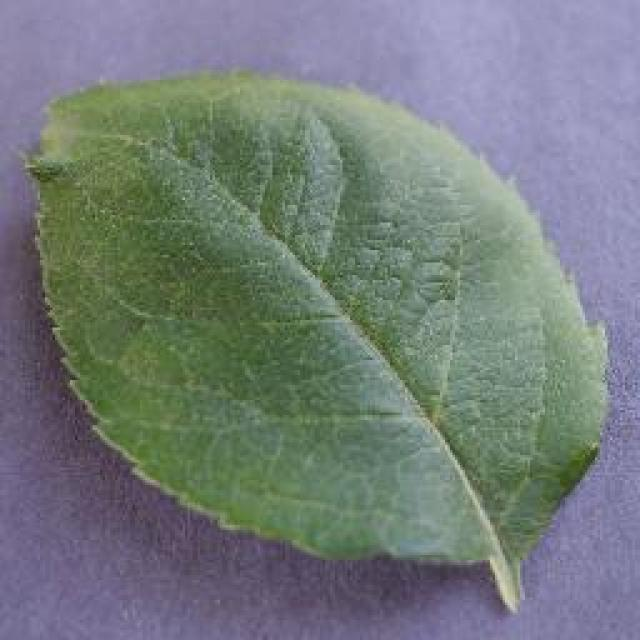apple healthy: (18, 65, 612, 613)
